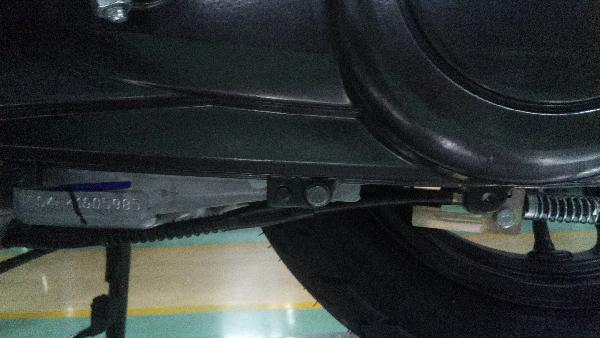box: (25, 194, 140, 213)
